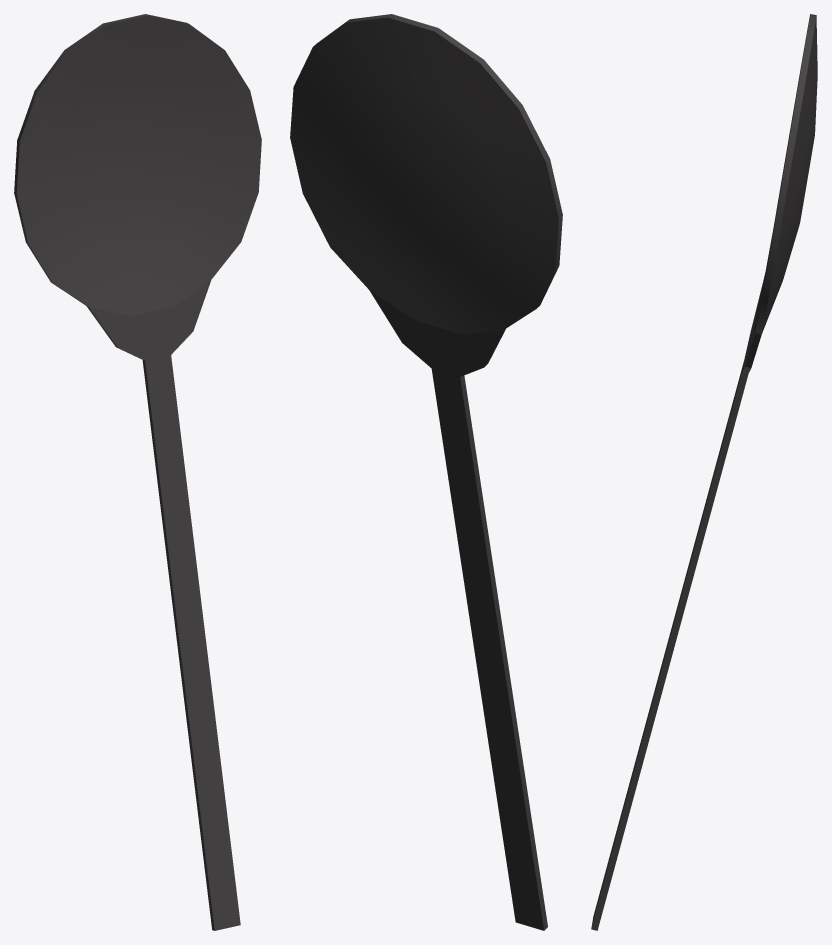
The model's file is Kitchen_Spatula01.FBX.
3 views of the same model, side by side, from view 1: azimuth 30°, elevation 25°; view 2: azimuth 150°, elevation 25°; view 3: azimuth 270°, elevation 25° (orthographic). The views are drawn at different scales.
Visible parts, largest first — view 1: Kitchen_spatula_1; view 2: Kitchen_spatula_1; view 3: Kitchen_spatula_1.
Boxes of the visible parts, bbox=[...] form: Kitchen_spatula_1: bbox=[14, 14, 261, 930]; Kitchen_spatula_1: bbox=[290, 14, 562, 930]; Kitchen_spatula_1: bbox=[591, 14, 817, 930].
Bounding box in the file's own units: 0.0869 × 0.2939 × 0.0671.
